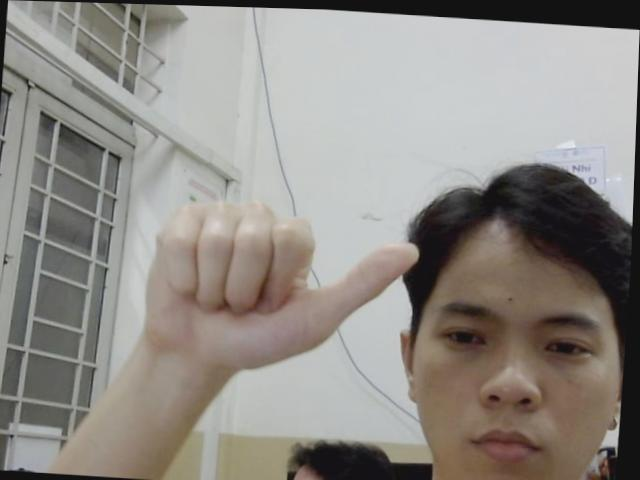A: (131, 191, 430, 378)
